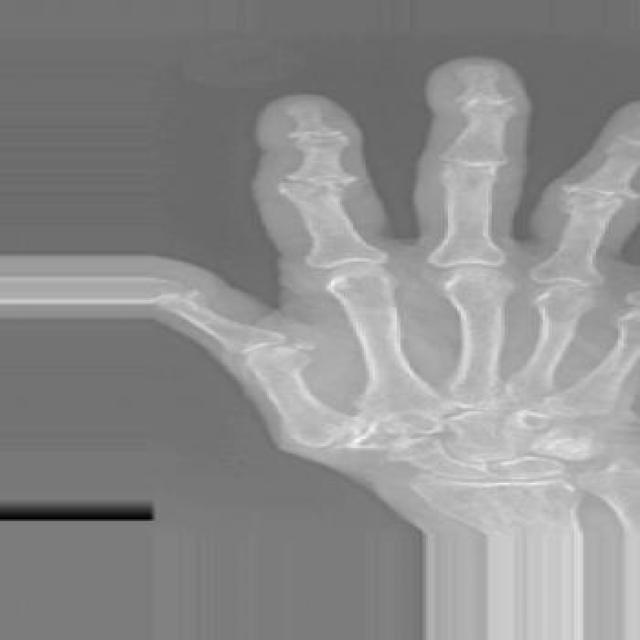Fracture: (264, 171, 369, 197)
